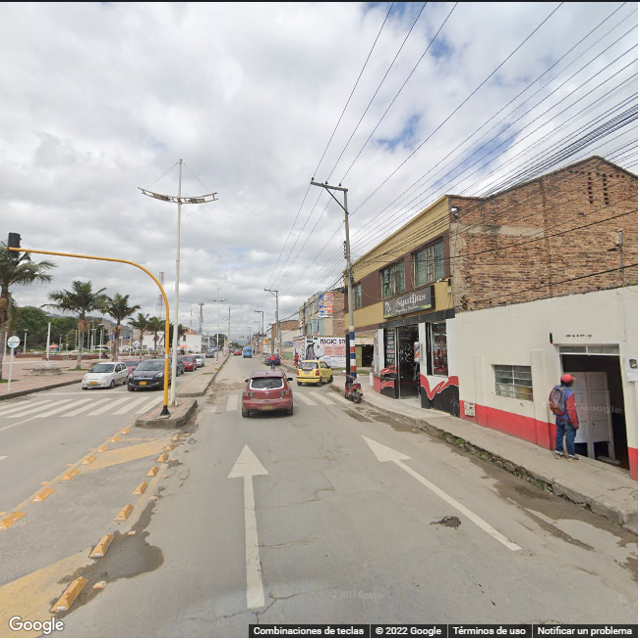D00: (255, 549, 274, 597)
D10: (191, 605, 260, 618), (275, 534, 321, 545)
D40: (425, 508, 467, 531)
